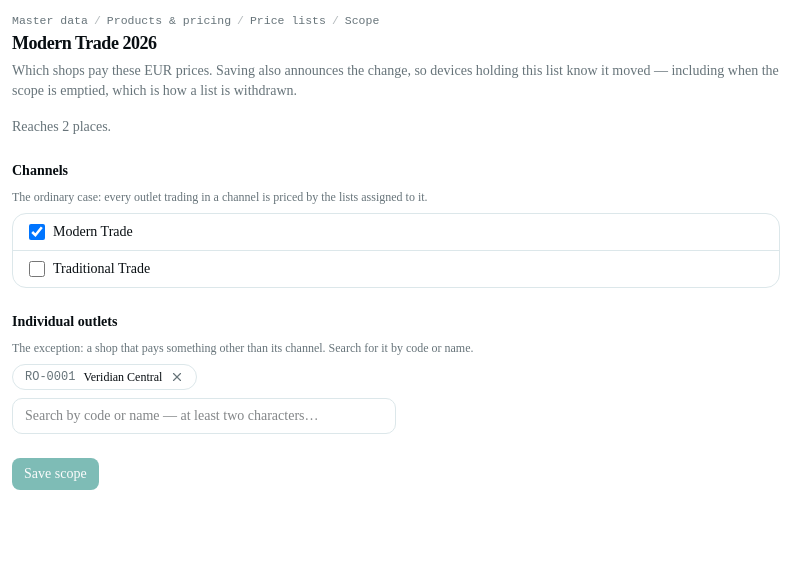
Scenario: <PriceListScope> › searches outlets on the server, and not before two characters
The width and height of the screenshot is (797, 561).
Expected: the button "Save scope" is shown, [12, 458, 99, 490]
In the search field named "Search outlets": (204, 416) [12, 398, 396, 434], type "n"
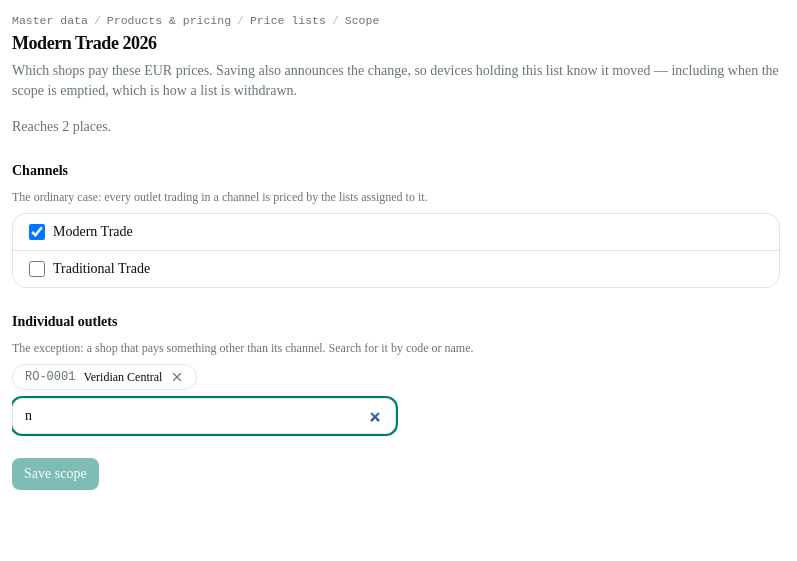
In the search field named "Search outlets": (204, 416) [12, 398, 396, 434], type "o"
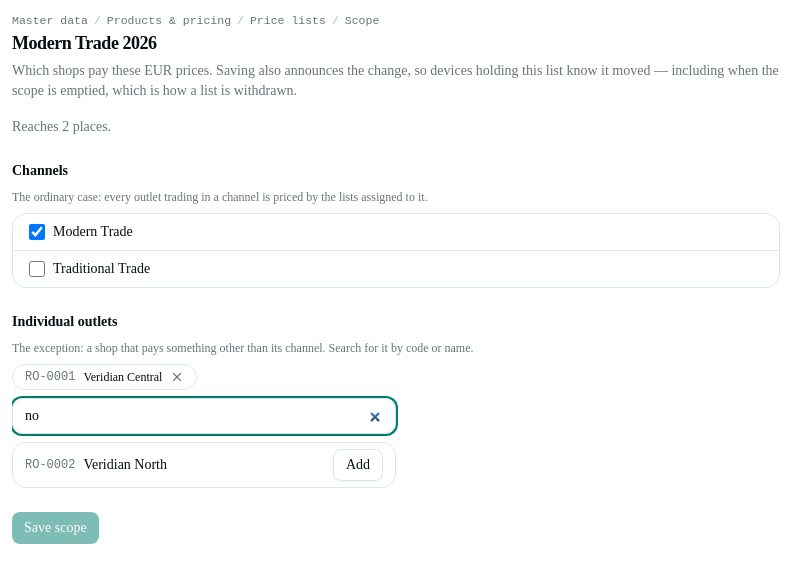
Expected: the button with aria-label "Add Veridian North (RO-0002)" is shown, [333, 449, 383, 481]
